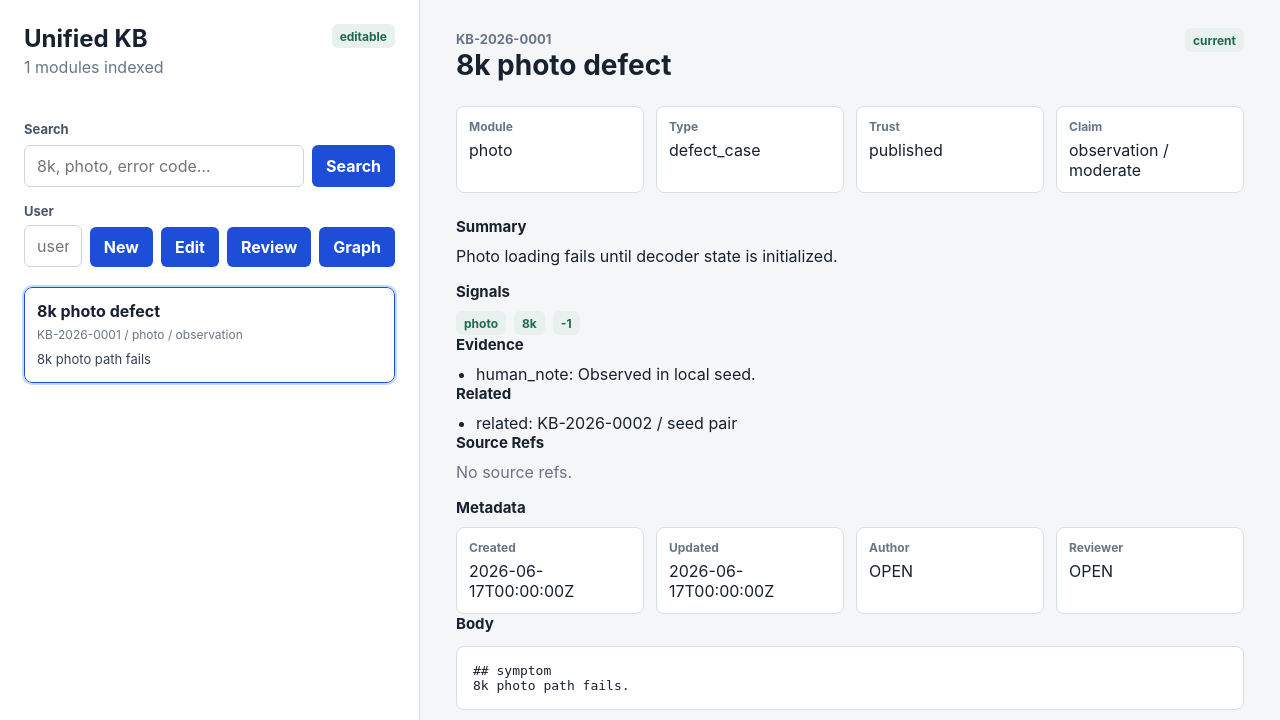
Test: App › hides isolated graph nodes by default and can show them
Click the button "Graph" at (357, 247), box [319,227,395,267]
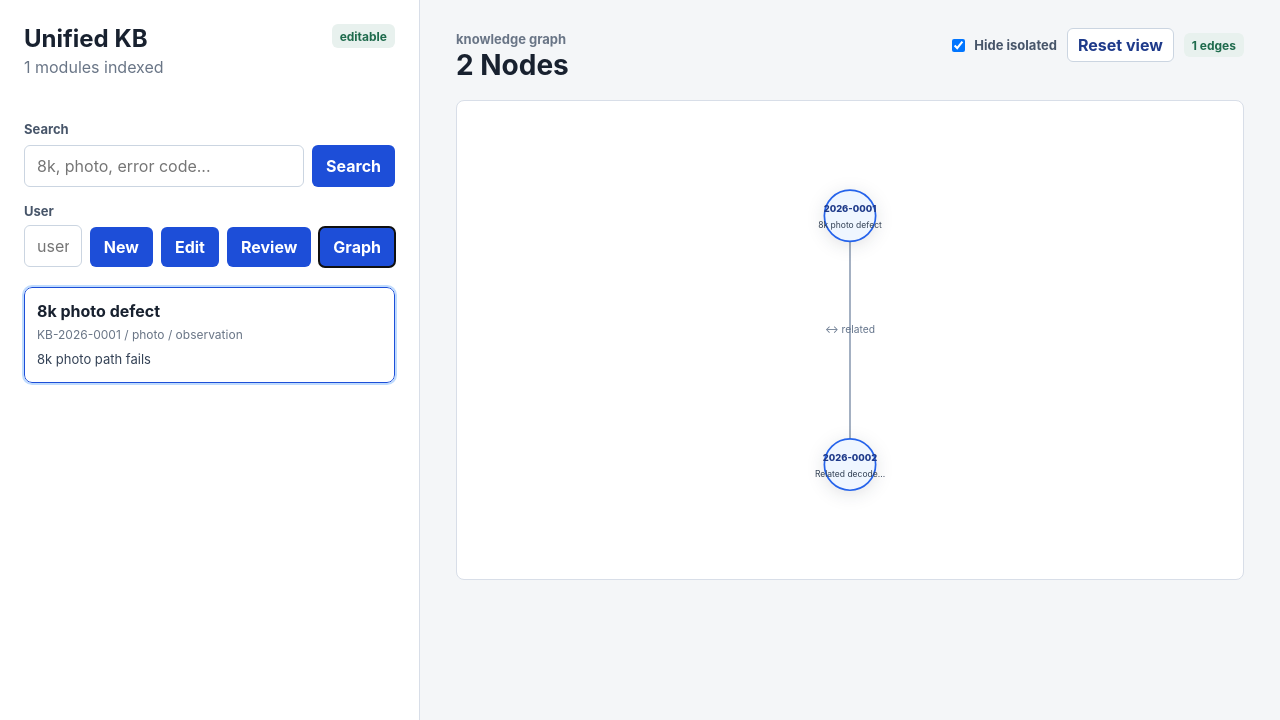
Now the heading "2 Nodes" is shown, box [456,48,569,82]
Click the checkbox labelled "Hide isolated" at (959, 45), box [952,38,965,52]
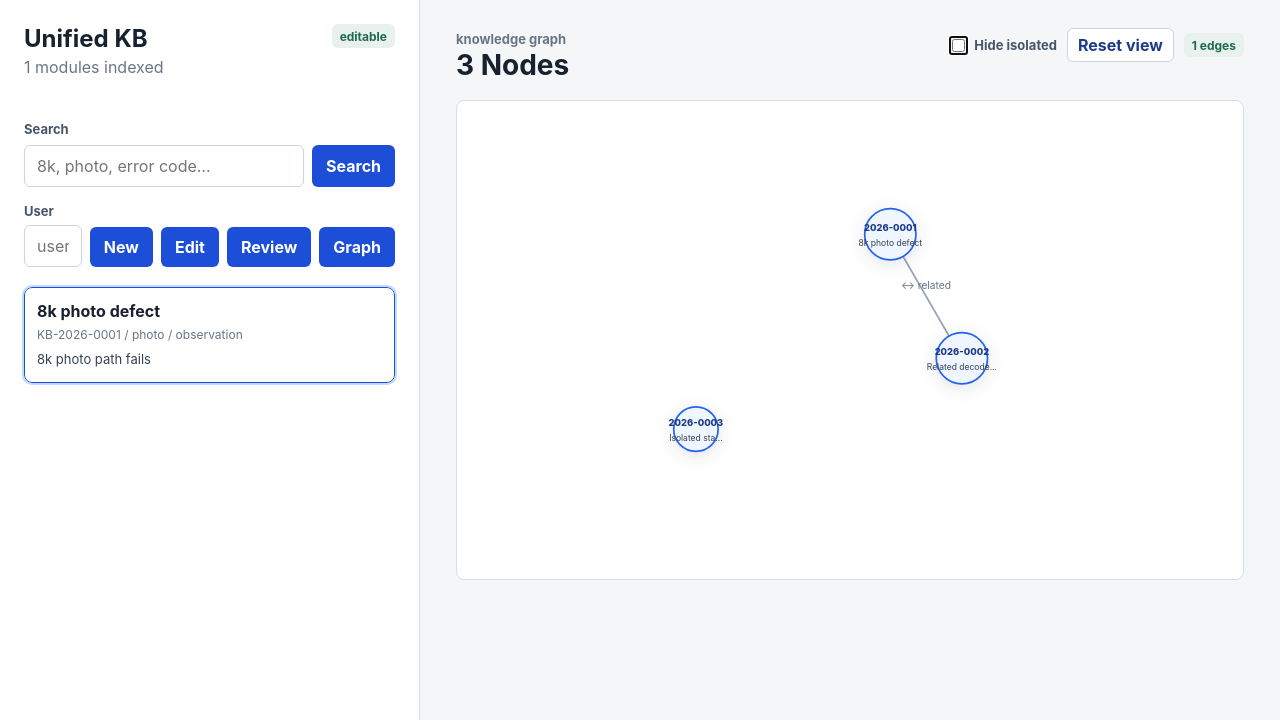
Expected: the field labelled "Open KB-2026-0003" is shown, [669,417,723,443]
Now the heading "3 Nodes" is shown, box [456,48,569,82]
